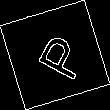P_NW: (24, 27, 86, 83)
